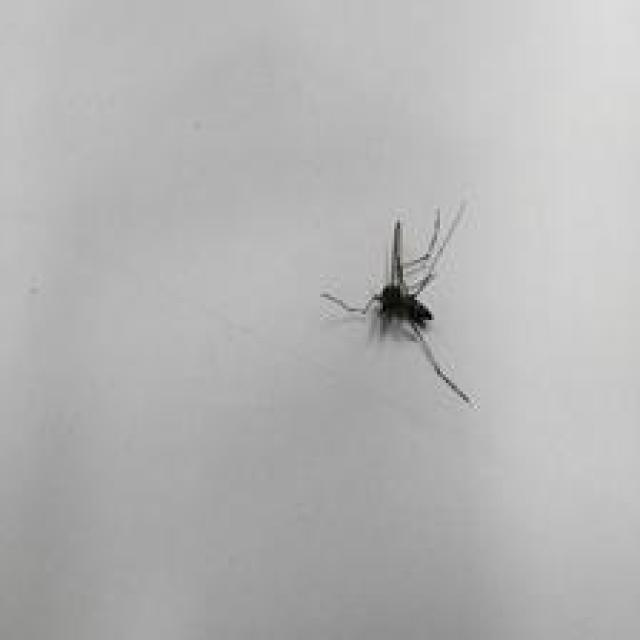Aedes albopictus: (320, 200, 477, 409)
